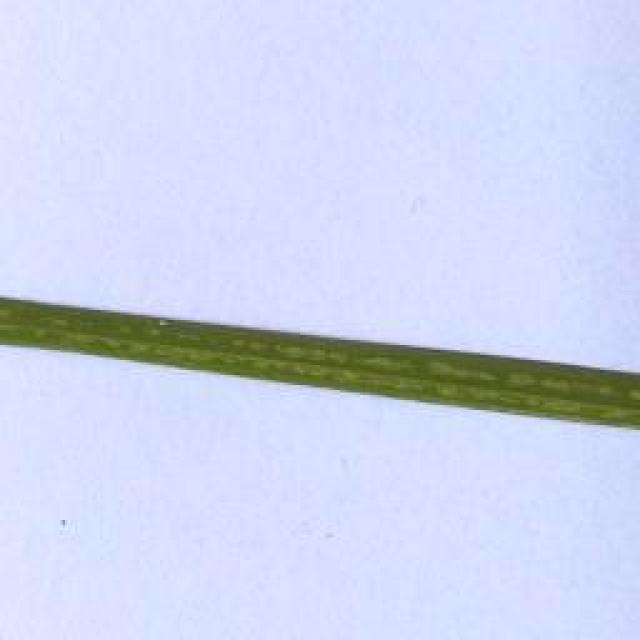Healthy-Plant: (0, 289, 640, 442)
